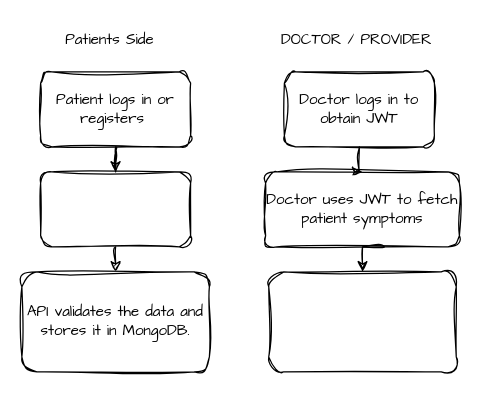
The diagram is 481 pixels wide and 394 high, and some of its shapes have lost their labels. The shapes that lost their labels are listed below. From the top down, each one's centre as x and y in pixels, then its label:
At point 115,209: "Patient fills out symptom form".
At point 362,321: "The system presents structured data".
